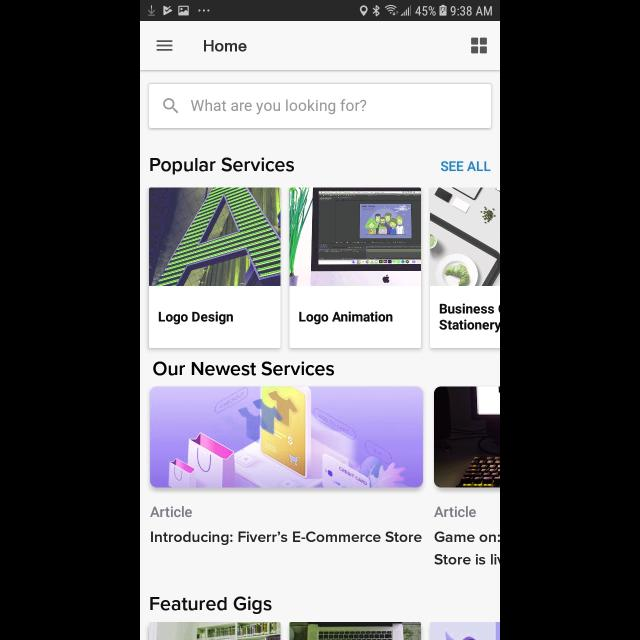icon: (471, 38, 487, 54), (164, 98, 178, 114), (156, 40, 174, 52)
image: (150, 387, 422, 488), (290, 188, 422, 286), (150, 188, 280, 286), (430, 188, 500, 286), (433, 387, 499, 488), (149, 622, 281, 640), (290, 622, 422, 640), (430, 622, 500, 640)
input: (149, 84, 491, 128)
text: (150, 531, 422, 545), (153, 360, 334, 376), (192, 99, 366, 115), (150, 158, 294, 175), (434, 531, 500, 565), (151, 596, 273, 614), (440, 303, 500, 333), (299, 311, 393, 325), (158, 311, 234, 325), (441, 160, 491, 172), (205, 40, 248, 52), (150, 506, 192, 518), (434, 506, 476, 518)
uppertaskbar: (140, 1, 500, 22)
